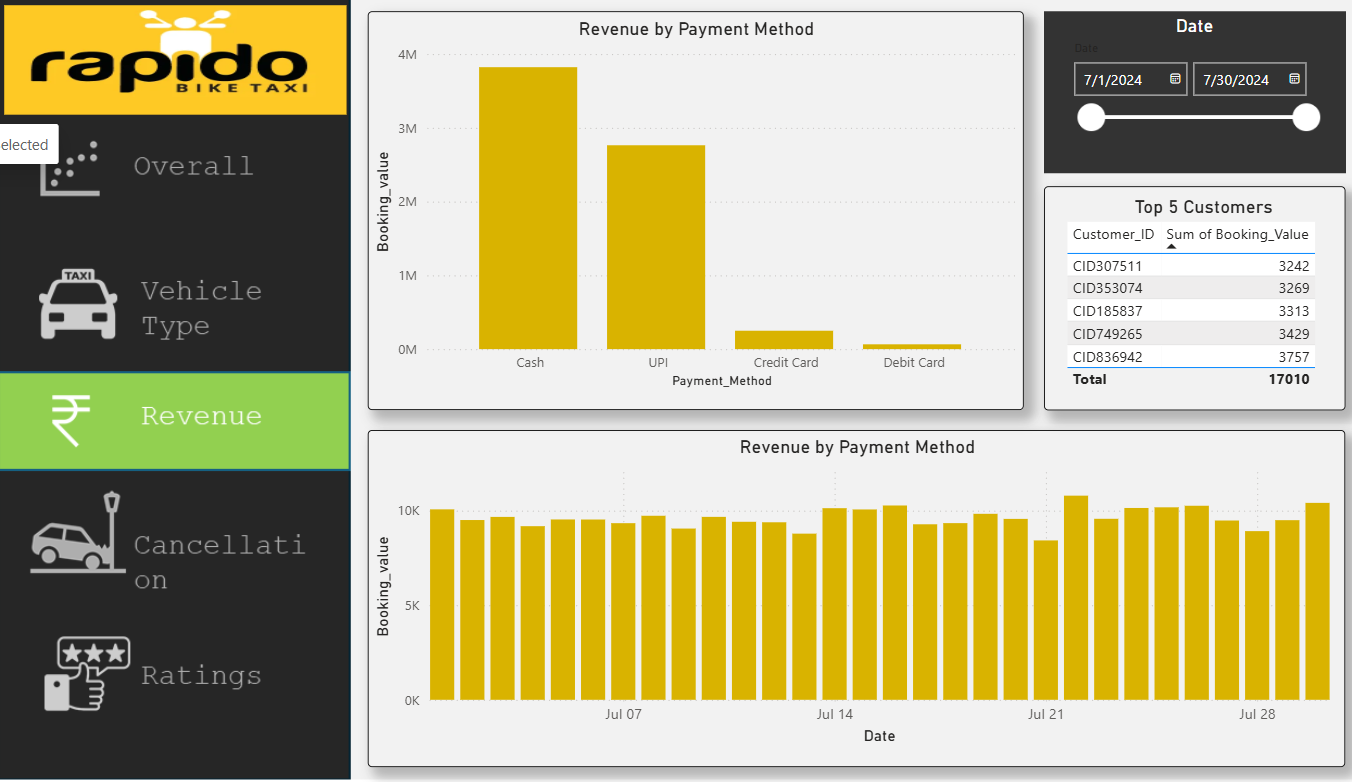

This screenshot's page, from the dashboard's own definition file:
{"tool":"powerbi","page":{"name":"Revenue","canvas":[1280,720],"ordinal":2},"visuals":[{"type":"actionButton","box":[0,234.5,325,90.5],"z":0},{"type":"actionButton","box":[0,113.1,325,90.5],"z":1000},{"type":"actionButton","box":[0,451.2,325,101.2],"z":2000},{"type":"actionButton","box":[0,582.1,325,90.5],"z":3000},{"type":"columnChart","title":"Revenue by Payment Method","fields":{"Category":["July.Payment_Method"],"Y":["Sum(July.Booking_Value)"]},"box":[340,10,603.8,367.5],"z":3001},{"type":"columnChart","title":"Revenue by Payment Method","fields":{"Category":["July.Date"],"Y":["Sum(July.Ride_Distance)"]},"box":[340,396.2,900,310],"z":3002},{"type":"slicer","title":"Date","fields":{"Values":["July.Date"]},"box":[962.5,10,277.5,148.8],"z":3003},{"type":"tableEx","title":"Top 5 Customers ","fields":{"Values":["July.Customer_ID","Sum(July.Booking_Value)"]},"box":[962.5,171.2,277.5,206.2],"z":3004}]}

Visuals, with their boxes in screenshot pixels (x1, y1, x2, y2), scaled from the page's 1280x720 canvas onto the 1352x782 screenshot:
actionButton: (0, 255, 343, 353)
actionButton: (0, 123, 343, 221)
actionButton: (0, 490, 343, 600)
actionButton: (0, 632, 343, 731)
"Revenue by Payment Method" columnChart: (359, 11, 997, 410)
"Revenue by Payment Method" columnChart: (359, 430, 1310, 767)
"Date" slicer: (1017, 11, 1310, 172)
"Top 5 Customers " tableEx: (1017, 186, 1310, 410)
